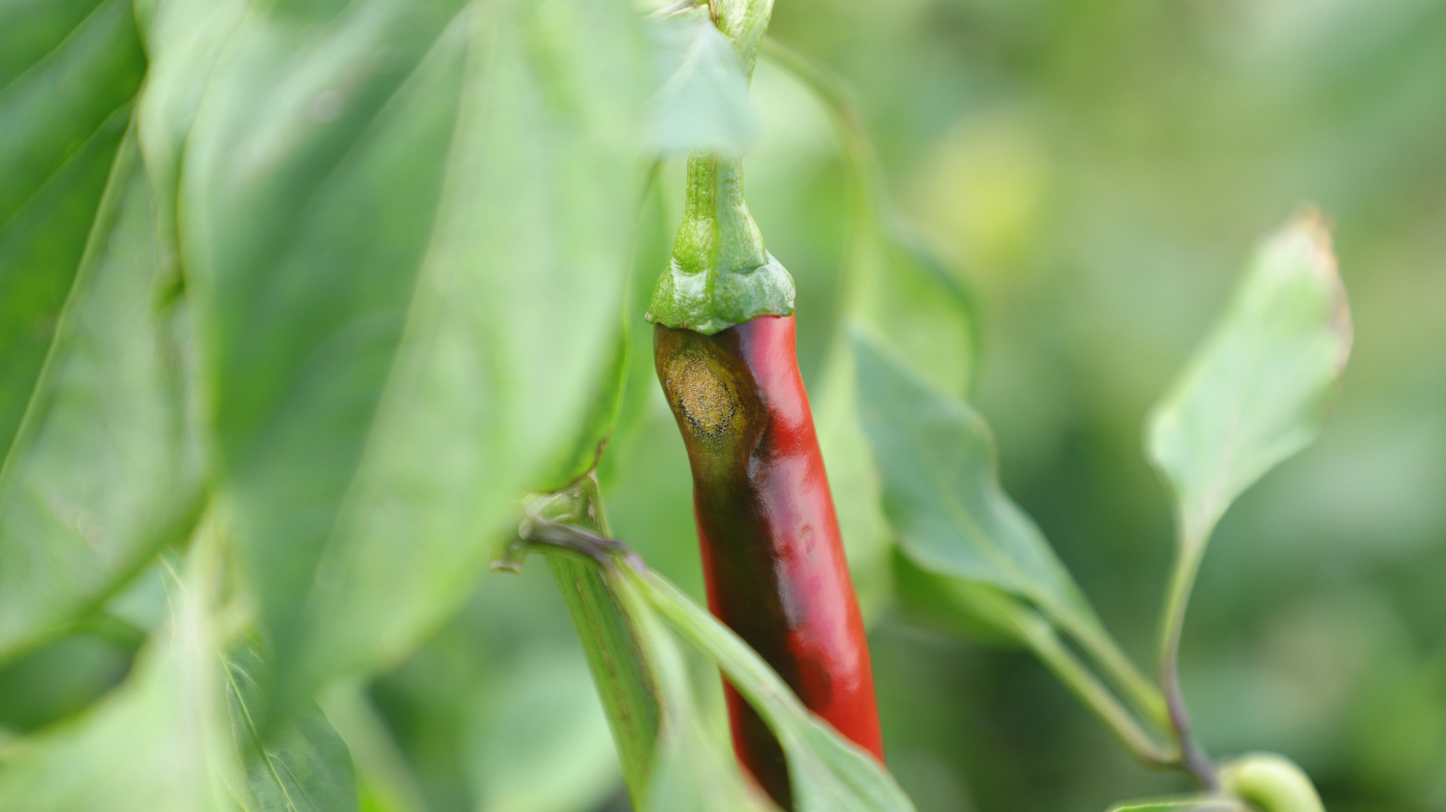Busuk Buah Antraknosa: (644, 265, 898, 812)
